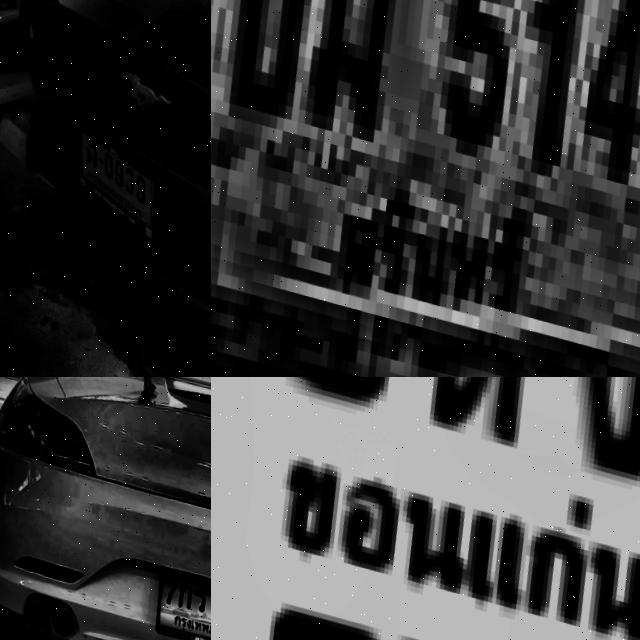license-plate: (211, 0, 640, 377), (211, 377, 640, 640), (47, 117, 171, 241), (136, 553, 211, 640)
